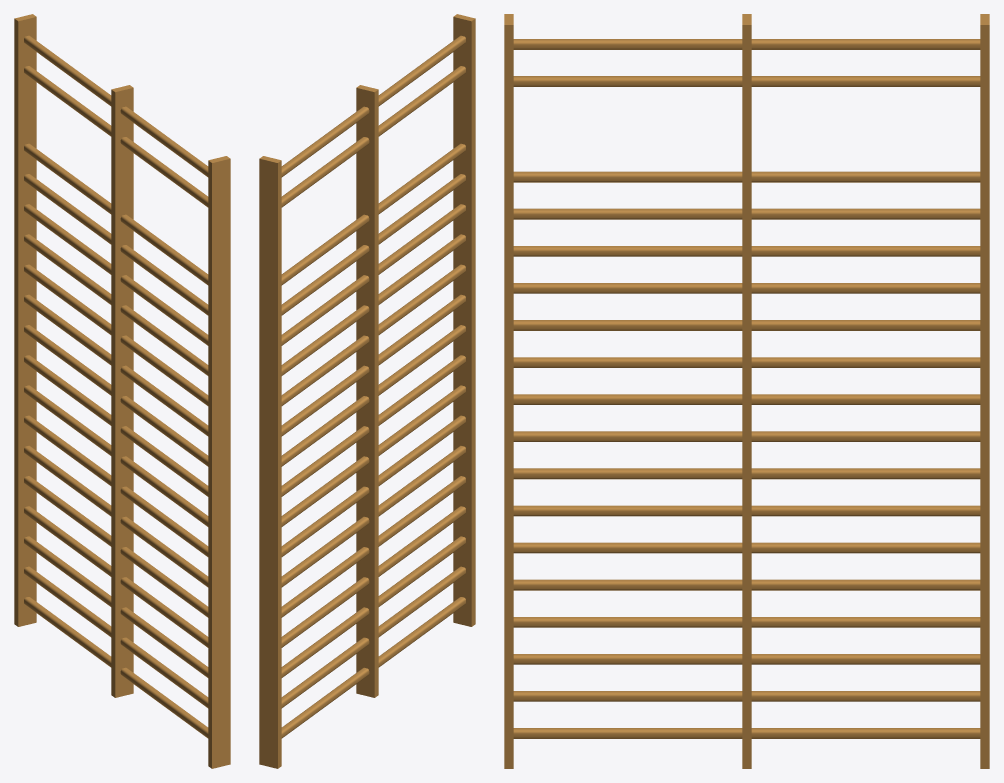
The model's file is drabinki2.fbx.
3 renders of one model, left to right at view 1: azimuth 30°, elevation 25°; view 2: azimuth 150°, elevation 25°; view 3: azimuth 270°, elevation 25°, orthographic. The views are drawn at different scales.
Parts seen in each view (by area): view 1: Cube.001; view 2: Cube.001; view 3: Cube.001.
Boxes of the visible parts, bbox=[...] form: Cube.001: bbox=[14, 14, 230, 768]; Cube.001: bbox=[259, 14, 475, 768]; Cube.001: bbox=[504, 14, 989, 768].
Bounding box in the file's own units: 13.93 × 437 × 259.
